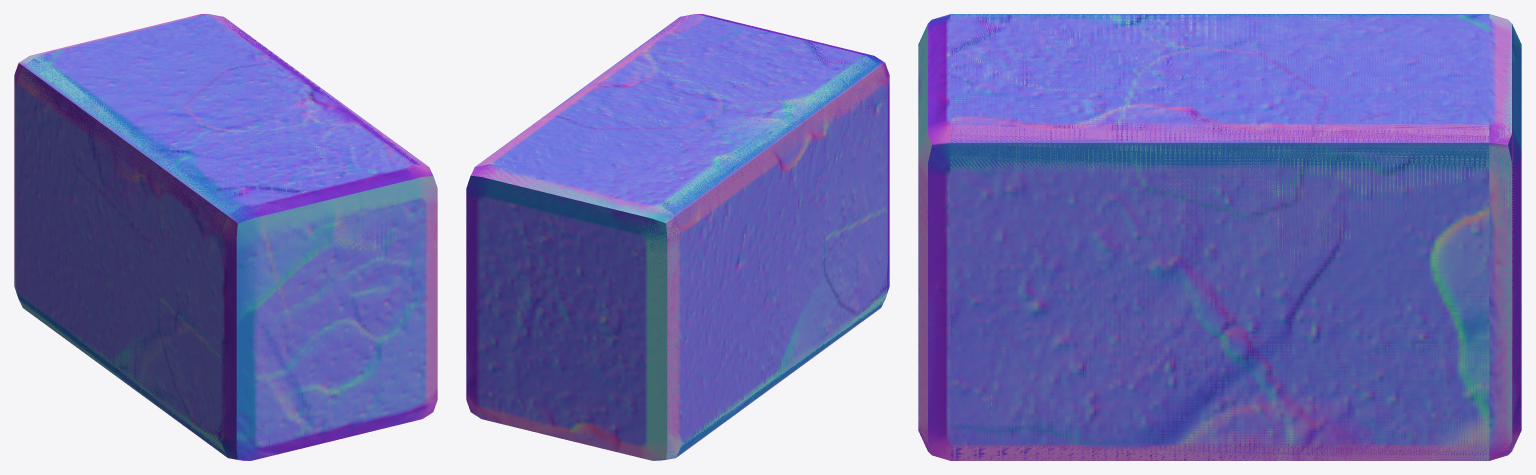
File: Dungeon_SmallBricksHp.fbx
3 renders of one model, left to right at view 1: azimuth 30°, elevation 25°; view 2: azimuth 150°, elevation 25°; view 3: azimuth 270°, elevation 25°, orthographic. The views are drawn at different scales.
Visible parts, largest first — view 1: Dungeon_HPSmallBrick1, Dungeon_HPSmallBrick7, Dungeon_HPSmallBrick4; view 2: Dungeon_HPSmallBrick4, Dungeon_HPSmallBrick1, Dungeon_HPSmallBrick7; view 3: Dungeon_HPSmallBrick1, Dungeon_HPSmallBrick4, Dungeon_HPSmallBrick7.
Boxes of the visible parts, x1,y1,x2,y2 form: Dungeon_HPSmallBrick1: (16,14,437,460); Dungeon_HPSmallBrick7: (17,19,437,460); Dungeon_HPSmallBrick4: (14,14,420,453); Dungeon_HPSmallBrick4: (466,14,887,460); Dungeon_HPSmallBrick1: (475,14,889,460); Dungeon_HPSmallBrick7: (477,14,889,455); Dungeon_HPSmallBrick1: (922,14,1513,460); Dungeon_HPSmallBrick4: (950,14,1521,460); Dungeon_HPSmallBrick7: (918,14,1482,460).
Bounding box in the file's own units: 0.3016 × 0.3444 × 0.5616.
